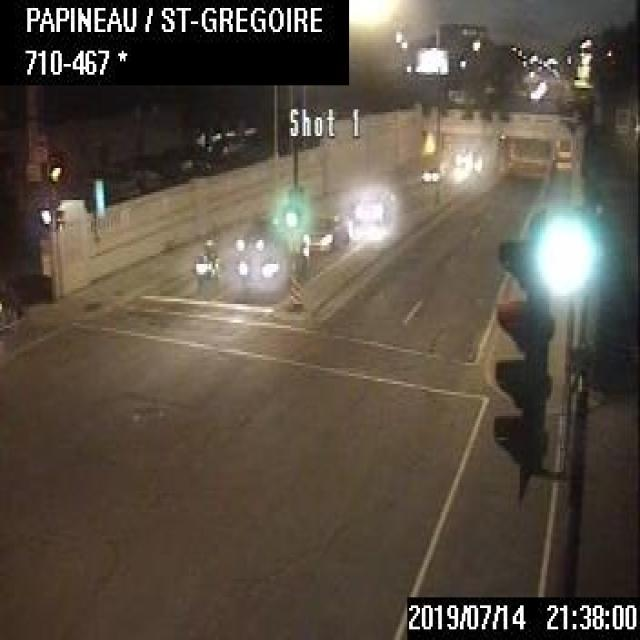vehicle: (229, 252, 293, 298), (348, 184, 394, 232), (232, 211, 281, 251), (300, 213, 347, 253), (191, 235, 216, 293), (420, 163, 438, 181)
